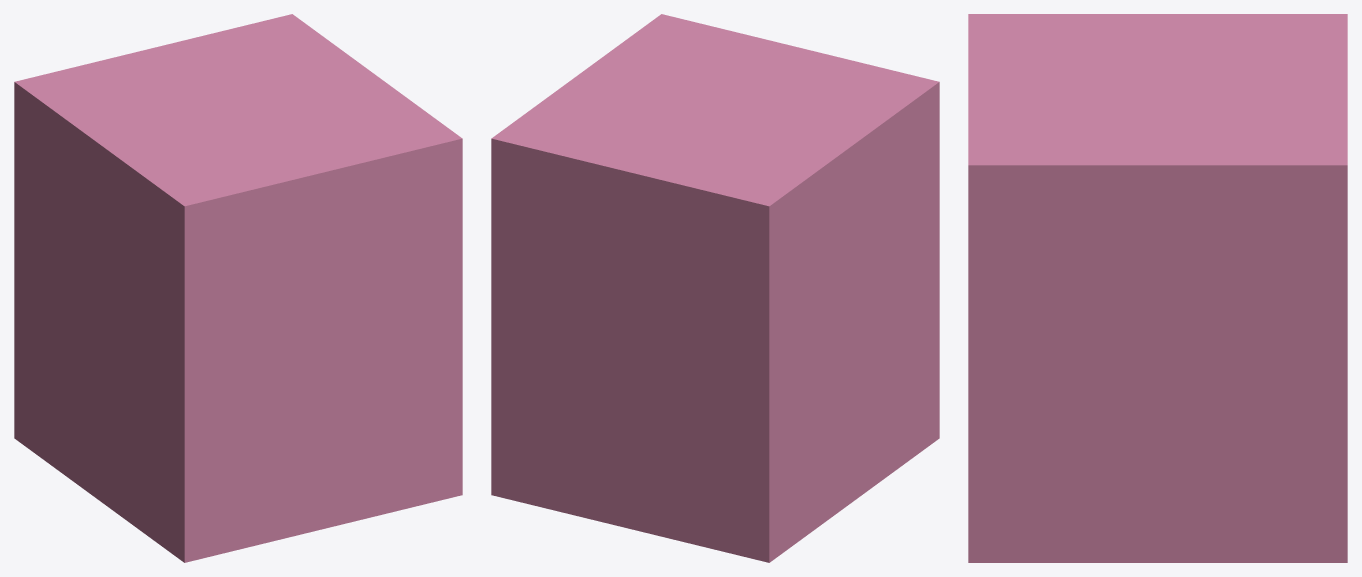
Rendered from ind_bollard_old.dae.
The picture shows the model from 3 angles, left to right: view 1: azimuth 30°, elevation 25°; view 2: azimuth 150°, elevation 25°; view 3: azimuth 270°, elevation 25°; orthographic projection. The views are drawn at different scales.
Visible parts, largest first — view 1: Untitled; view 2: Untitled; view 3: Untitled.
Part boxes in pixels (box(x1,y1,x2,y2)): Untitled: box(14, 14, 462, 562); Untitled: box(491, 14, 939, 562); Untitled: box(968, 14, 1347, 562).
Bounding box in the file's own units: 0.4006 × 0.4247 × 0.4909.
